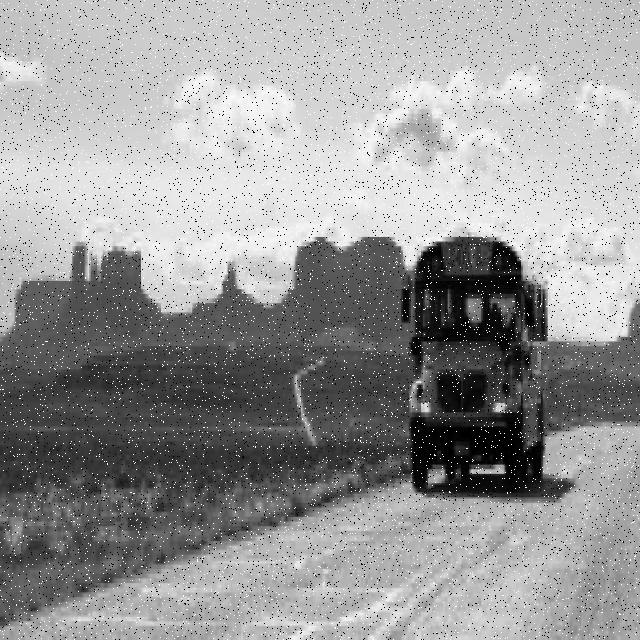Bus: (401, 226, 548, 495)
